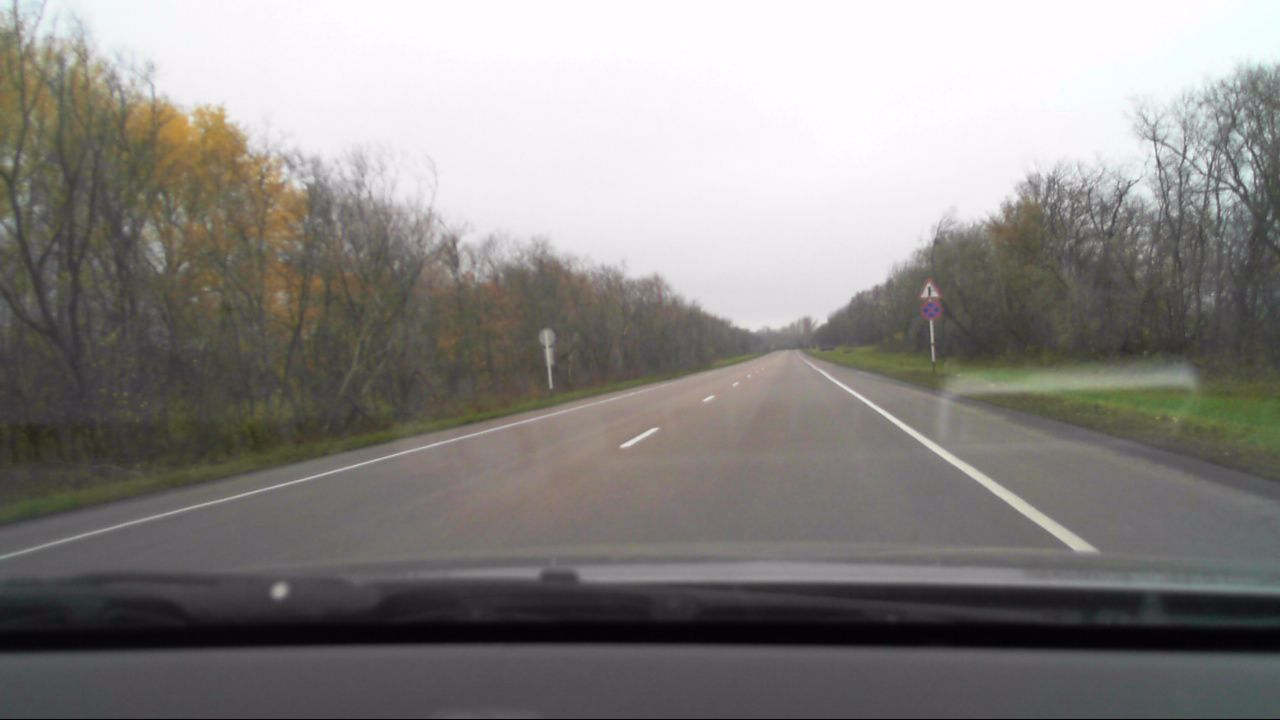No Parking: (919, 302, 939, 319)
